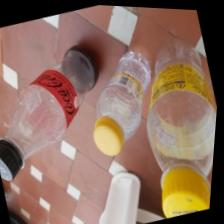glass: (0, 11, 120, 223)
plastic: (0, 27, 123, 222), (146, 37, 223, 223), (71, 48, 150, 156), (99, 161, 139, 223)
